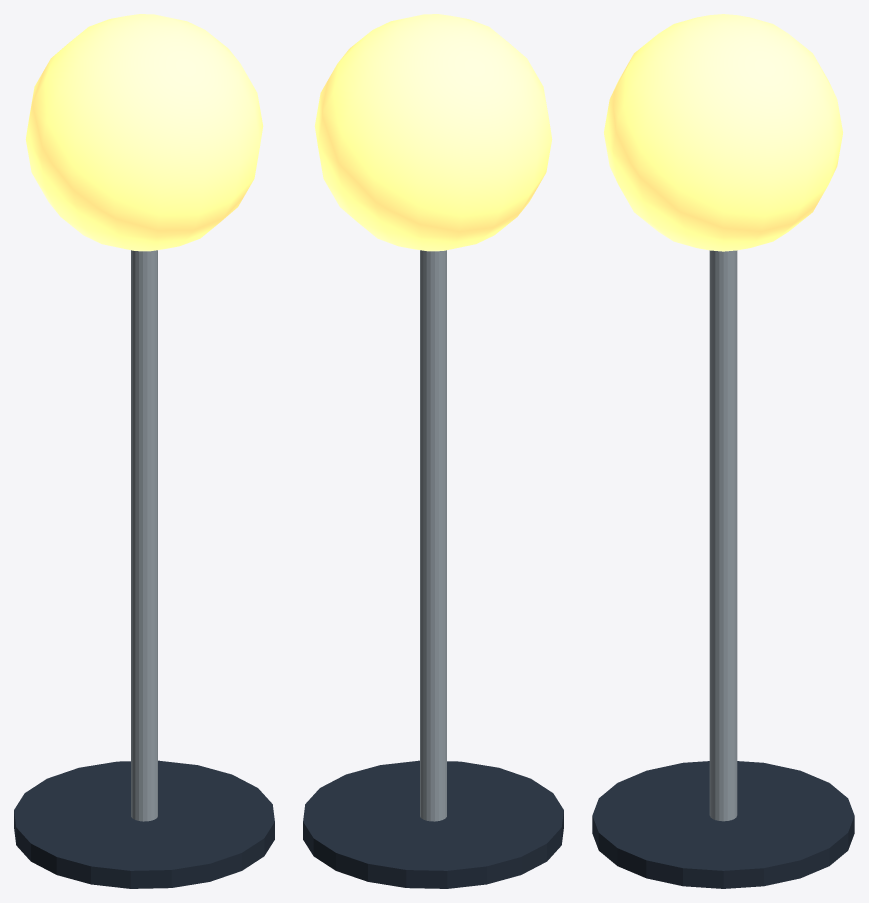
Rendered from decor_03.glb.
3 views of the same model, side by side, from view 1: azimuth 30°, elevation 25°; view 2: azimuth 150°, elevation 25°; view 3: azimuth 270°, elevation 25° (orthographic).
Visible parts, largest first — view 1: FrostedGlobe, FloorLightBase, FloorLightStem; view 2: FrostedGlobe, FloorLightBase, FloorLightStem; view 3: FrostedGlobe, FloorLightBase, FloorLightStem.
Boxes of the visible parts, box(x1,y1,x2,y2) form: FrostedGlobe: box(25, 14, 263, 251); FloorLightBase: box(14, 760, 274, 888); FloorLightStem: box(131, 250, 157, 821); FrostedGlobe: box(314, 14, 552, 251); FloorLightBase: box(303, 760, 563, 888); FloorLightStem: box(420, 250, 446, 821); FrostedGlobe: box(604, 14, 842, 251); FloorLightBase: box(592, 761, 854, 888); FloorLightStem: box(709, 250, 737, 821).
Bounding box in the file's own units: 0.46 × 1.57 × 0.46.
